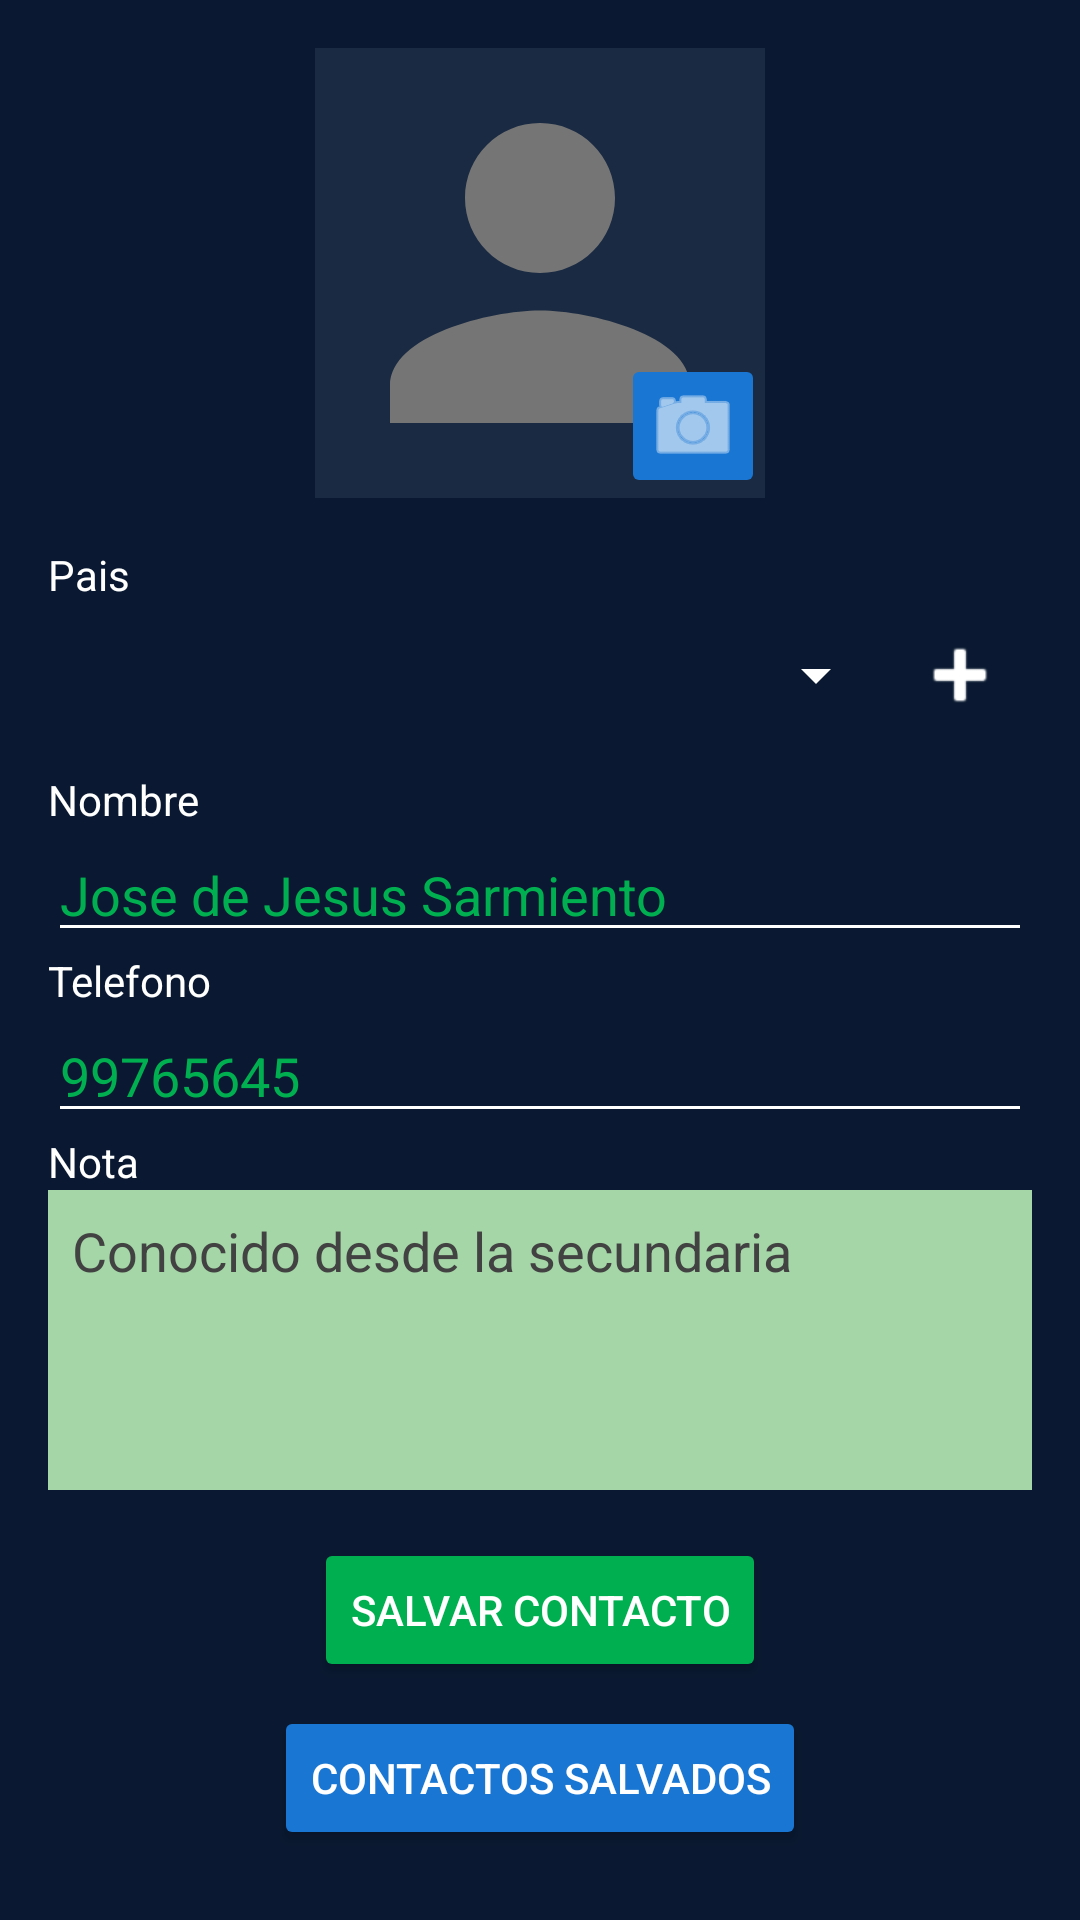

Icons on this 1080px x 1920px Android screen, each with the point to tap as [x,y]:
add: [960,675]
